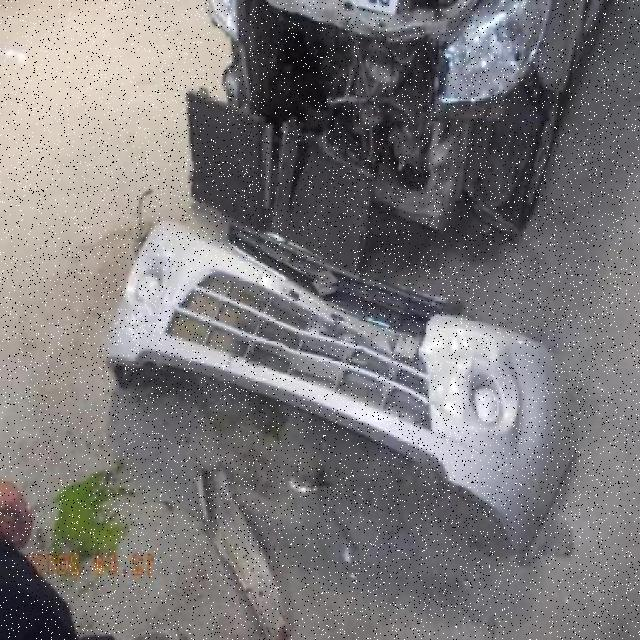damage: (232, 1, 550, 218)
